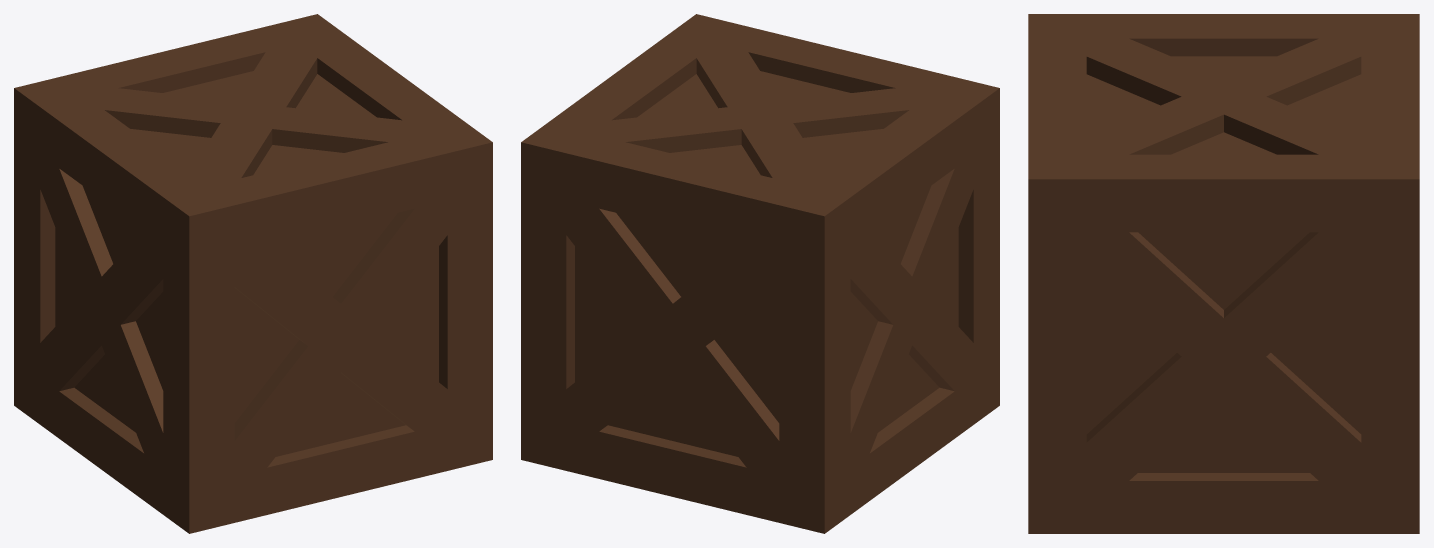
File: Crate.fbx
3 views of the same model, side by side, from view 1: azimuth 30°, elevation 25°; view 2: azimuth 150°, elevation 25°; view 3: azimuth 270°, elevation 25° (orthographic). The views are drawn at different scales.
Visible parts, largest first — view 1: Crate_Bottom, Crate_Top; view 2: Crate_Bottom, Crate_Top; view 3: Crate_Bottom, Crate_Top.
Boxes of the visible parts, x1,y1,x2,y2 form: Crate_Bottom: (14,120,492,533); Crate_Top: (14,14,492,247); Crate_Bottom: (521,120,999,533); Crate_Top: (521,14,999,247); Crate_Bottom: (1028,214,1419,533); Crate_Top: (1028,14,1419,214).
Bounding box in the file's own units: 1.5 × 1.5 × 1.5.
